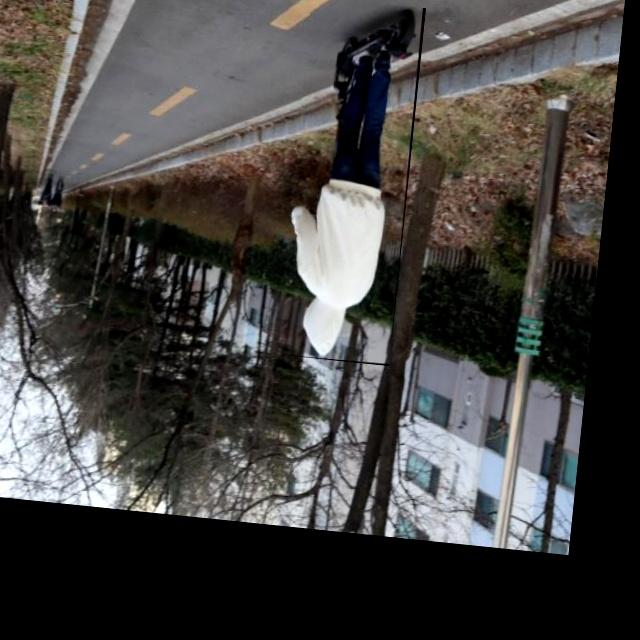bare_head: (289, 297, 384, 359)
human: (294, 51, 397, 365)
kickboard: (291, 17, 453, 106)
